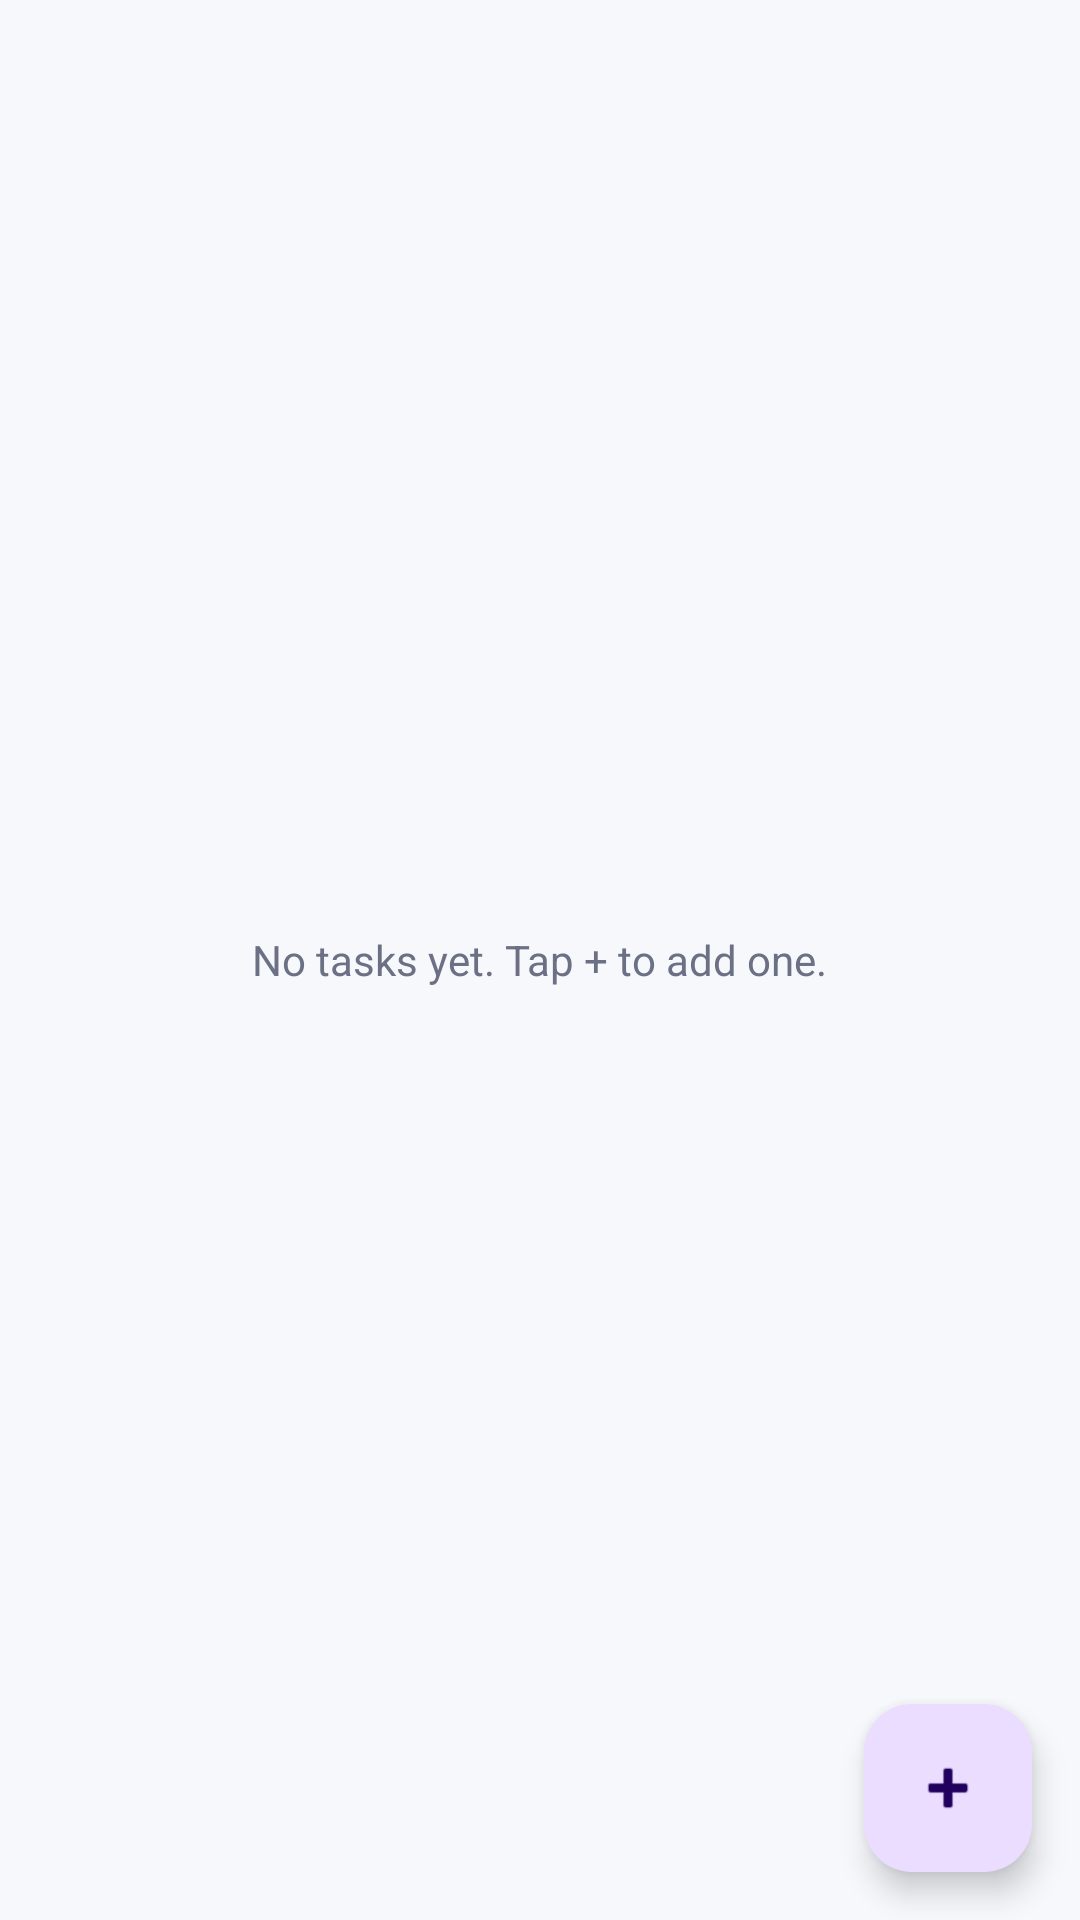

Icon click points for this 1080px×1920px phone screenshot, format [x,y]:
Add task: [948,1788]
